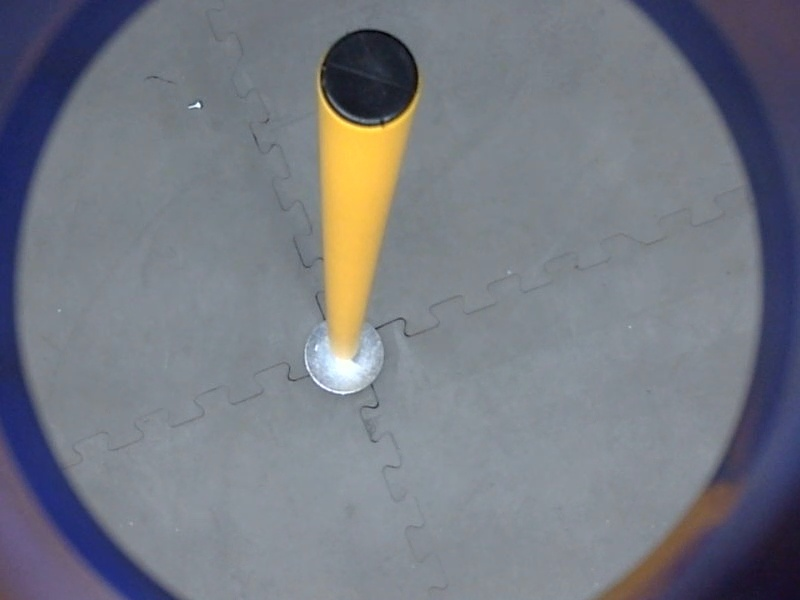tip: (309, 24, 425, 134)
